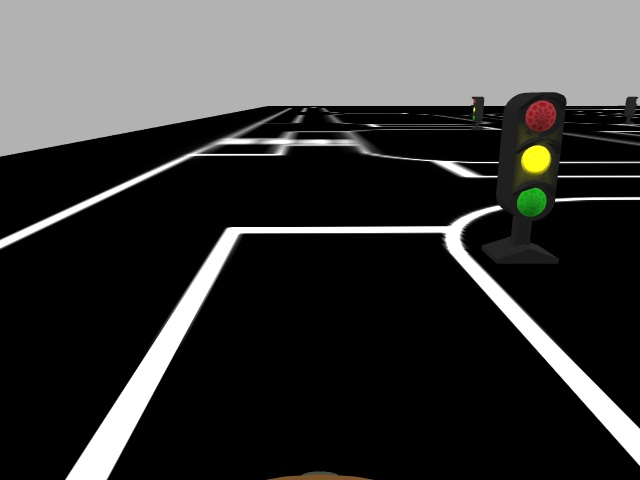yellow_light: (503, 91, 566, 221)
